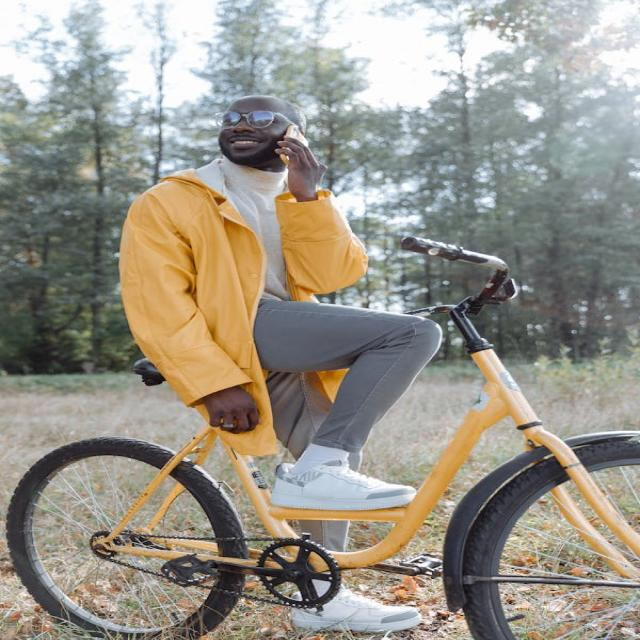Real human 2: (99, 71, 488, 640)
